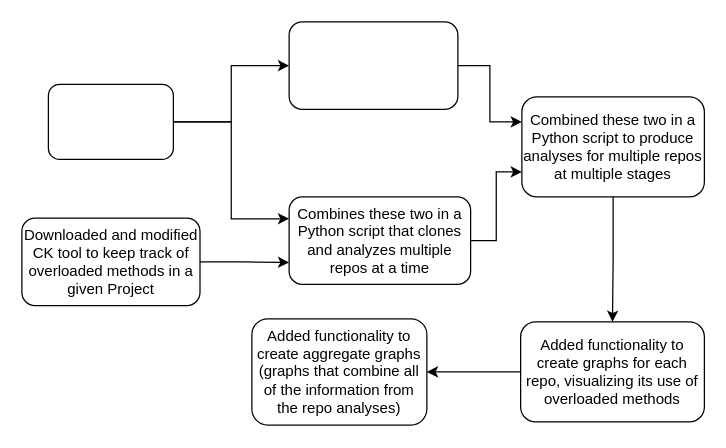
Some shapes in this 726 by 448 pixel diagram are drawn without their labels. Each missing label, with the centre of its shape:
"Added functionality to 'checkout' repos to earlier stages of their lifespan." goes at pixel 373 65.
"Wrote Python Script to clone top Java Repos to local machine" goes at pixel 110 121.
